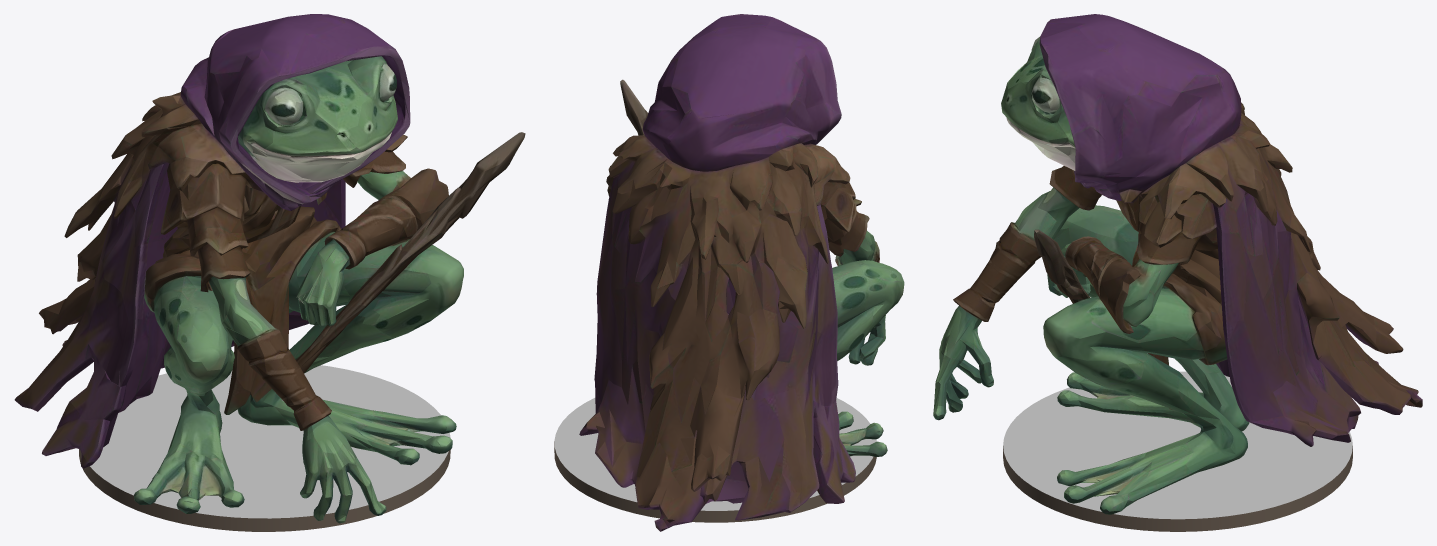
File: pc_kerropi.glb
3 views of the same model, side by side, from view 1: azimuth 30°, elevation 25°; view 2: azimuth 150°, elevation 25°; view 3: azimuth 270°, elevation 25° (orthographic). The views are drawn at different scales.
Parts seen in each view (by area): view 1: Kerropi; view 2: Kerropi; view 3: Kerropi.
Part boxes in pixels (x1=…): Kerropi: x1=14, y1=14, x2=525, y2=531; Kerropi: x1=554, y1=14, x2=904, y2=531; Kerropi: x1=933, y1=14, x2=1422, y2=531.
Bounding box in the file's own units: 0.8777 × 1.04 × 1.07.
Materials: 3 (1 with a texture image).
